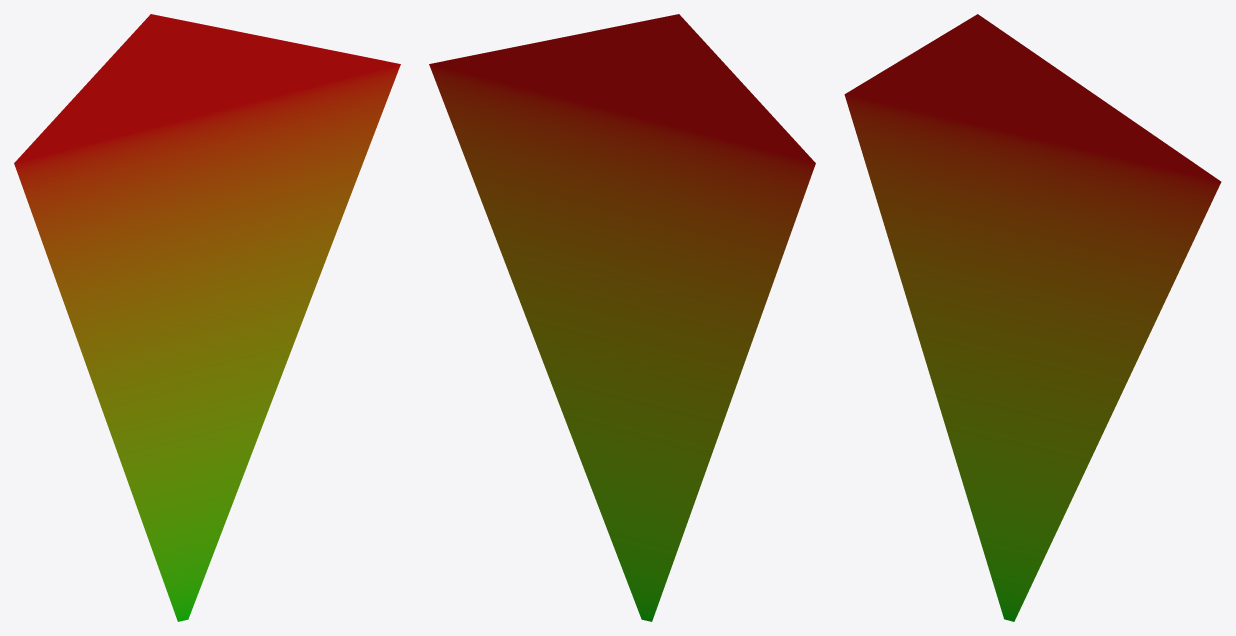
Rendered from Lily Of The Valley_LOD7_Var1_xikkdhjja.fbx.
3 views of the same model, side by side, from view 1: azimuth 30°, elevation 25°; view 2: azimuth 150°, elevation 25°; view 3: azimuth 330°, elevation 25° (orthographic). The views are drawn at different scales.
Parts seen in each view (by area): view 1: _0t4t_Var1_LOD7; view 2: _0t4t_Var1_LOD7; view 3: _0t4t_Var1_LOD7.
Boxes of the visible parts, x1,y1,x2,y2 form: _0t4t_Var1_LOD7: [14, 14, 400, 621]; _0t4t_Var1_LOD7: [429, 14, 815, 621]; _0t4t_Var1_LOD7: [844, 14, 1221, 621].
Bounding box in the file's own units: 23.88 × 36.26 × 3.64e-12.
